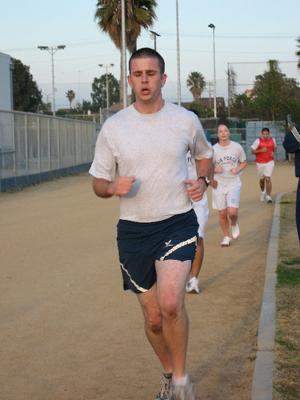person: (88, 48, 218, 400)
